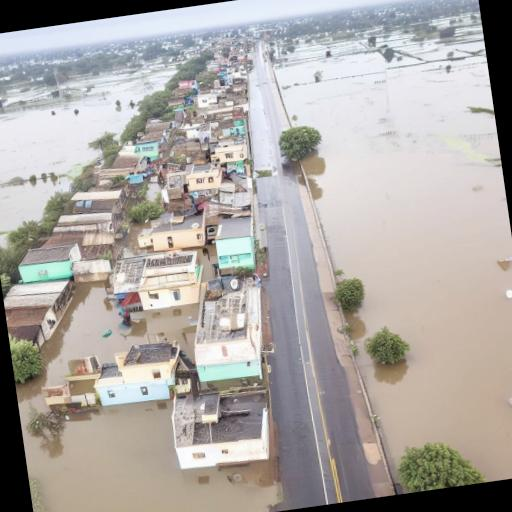flood: (276, 26, 512, 482), (16, 283, 277, 512), (0, 67, 176, 244), (124, 221, 151, 255), (195, 244, 217, 282), (147, 182, 163, 200)
house: (186, 274, 274, 388), (170, 383, 274, 477), (95, 338, 188, 410), (2, 276, 78, 350), (135, 249, 208, 314), (39, 352, 106, 416), (144, 212, 212, 258), (66, 184, 130, 232), (16, 242, 84, 284), (215, 234, 262, 273), (102, 144, 154, 176), (210, 218, 258, 252), (186, 161, 228, 196), (70, 256, 114, 286), (209, 140, 249, 166), (196, 92, 220, 110)
